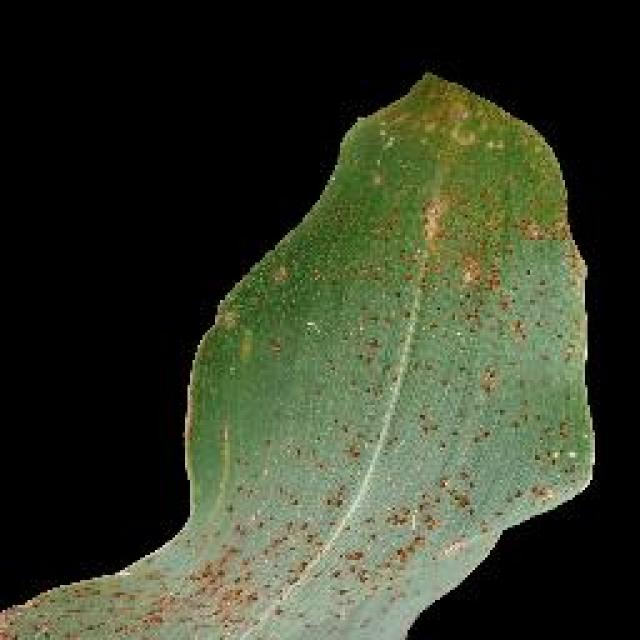Corn Common Rust: (190, 295, 517, 635)
